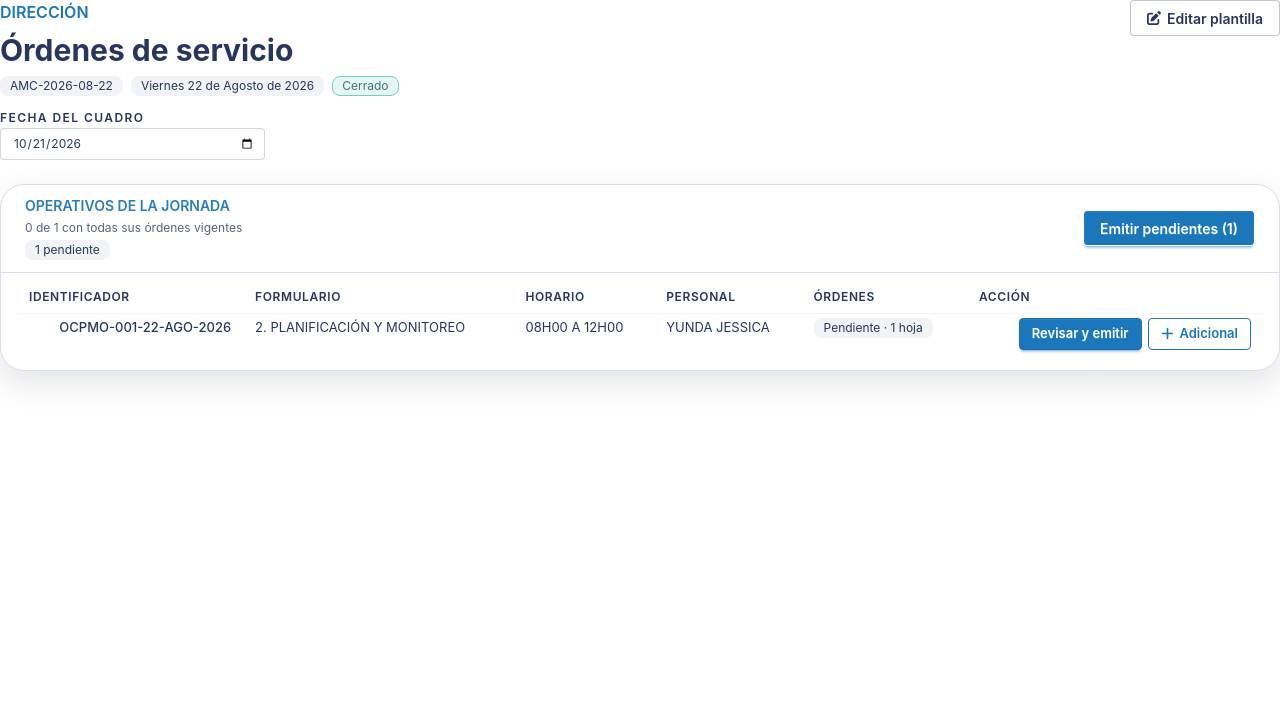
emitir todas las órdenes de la jornada con un solo clic › avisa cuántas hojas quedaron en borrador por datos faltantes (B4)
The width and height of the screenshot is (1280, 720).
Click the button "Emitir pendientes (1)" at (1169,228), box [1083,210,1255,246]
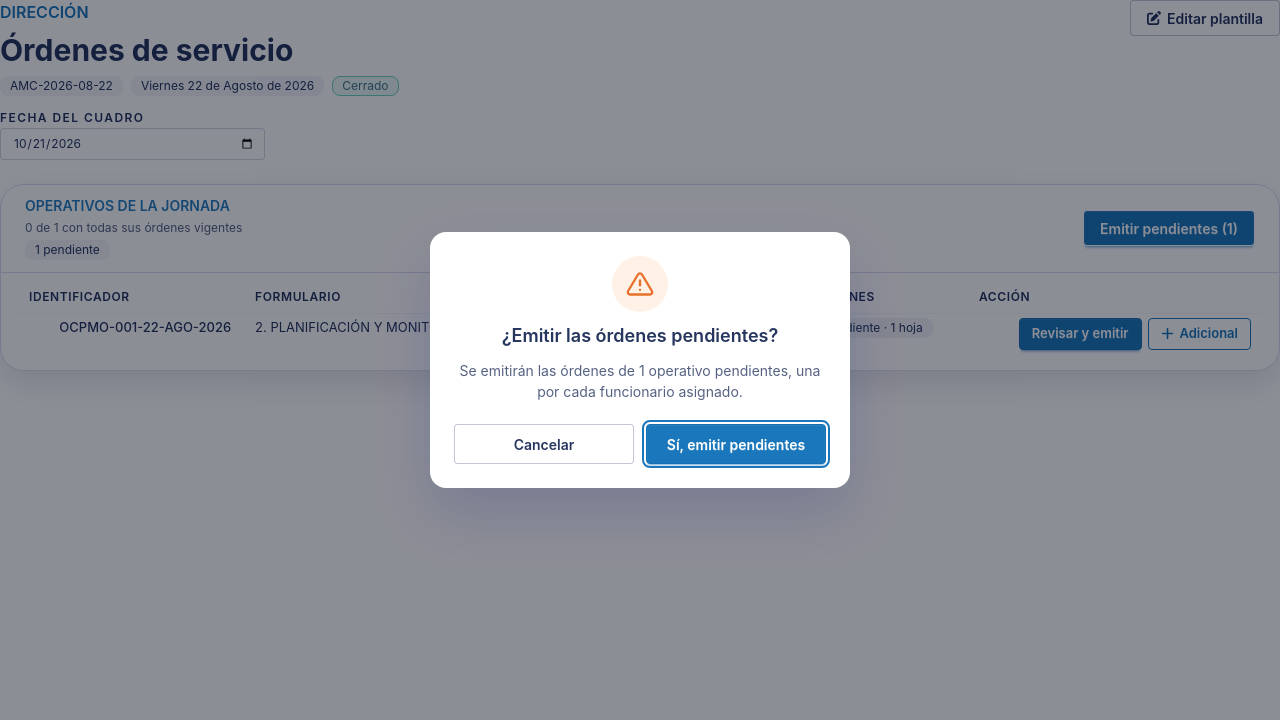
Click the button "Sí, emitir pendientes" at (736,444), box [646,424,826,464]
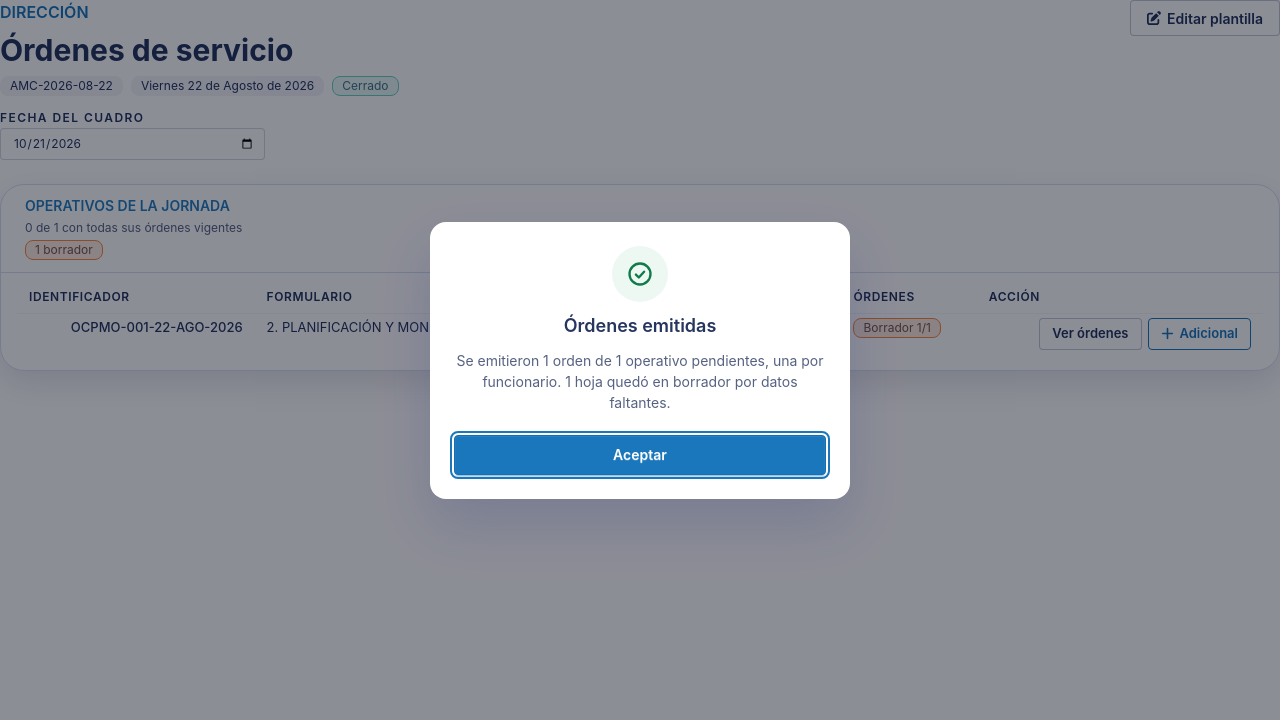
Check: the dialog "Órdenes emitidas" shows "1 hoja quedó en borrador por datos faltantes", box [456,352,824,410]
Check: the button "Aceptar" is shown, box [454,434,826,474]
